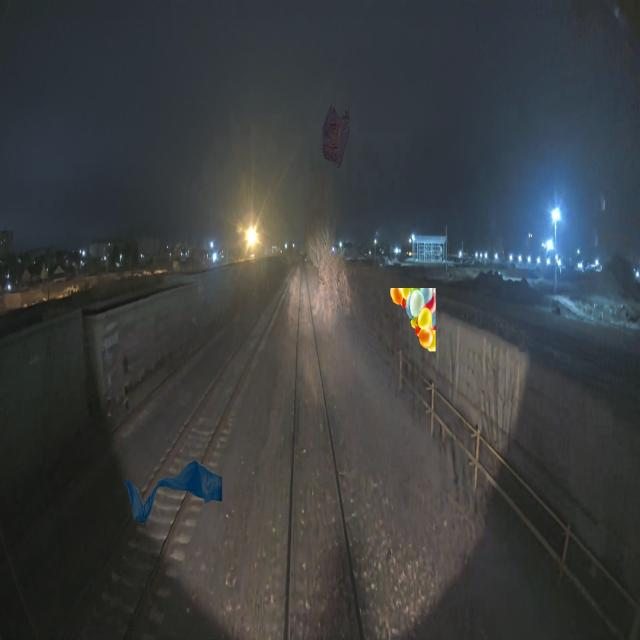balloon: (390, 288, 436, 352), (322, 104, 349, 168)
floating object: (125, 460, 223, 524)
